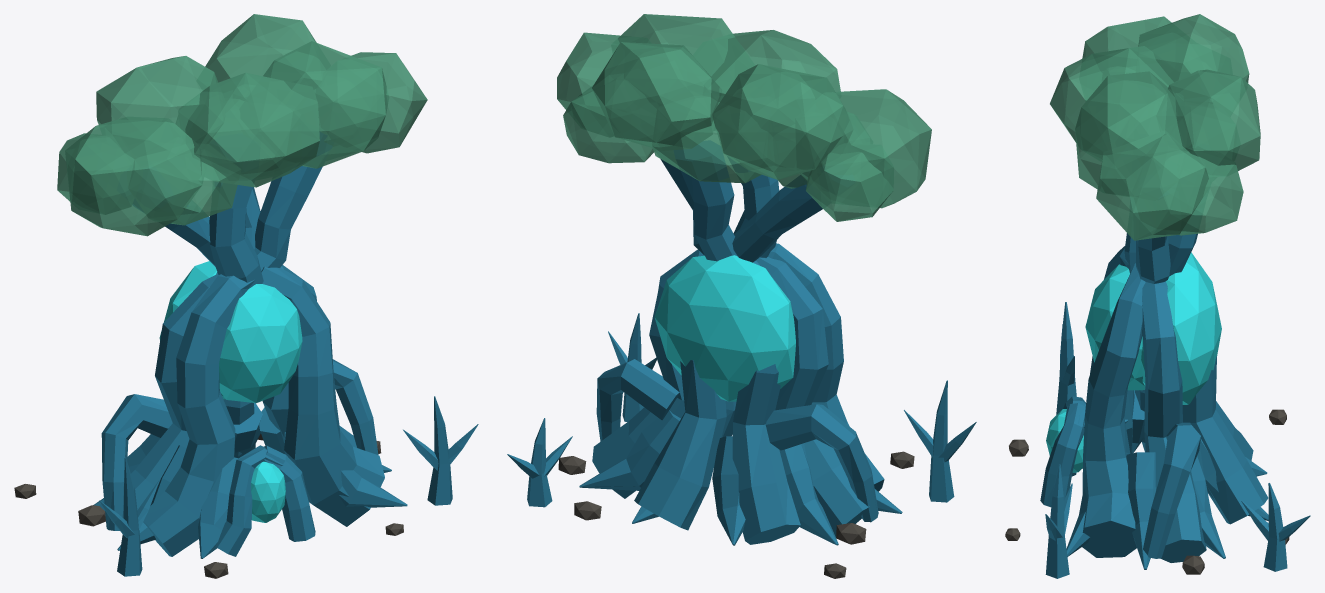
File: Worldroot Heart.fbx
3 renders of one model, left to right at view 1: azimuth 30°, elevation 25°; view 2: azimuth 150°, elevation 25°; view 3: azimuth 270°, elevation 25°, orthographic.
Visible parts, largest first — view 1: Long spreading root 01, Canopy lobe 08, Large rounded cyan heart, Root-base fragment 04; view 2: Long spreading root 01, Canopy lobe 08, Large rounded cyan heart, Root-base fragment 04; view 3: Long spreading root 01, Canopy lobe 08, Large rounded cyan heart, Root-base fragment 04.
Part boxes in pixels (box(x1,y1,x2,y2)): Long spreading root 01: box(93, 132, 478, 576); Canopy lobe 08: box(57, 14, 427, 236); Large rounded cyan heart: box(159, 261, 302, 522); Root-base fragment 04: box(14, 433, 403, 578); Long spreading root 01: box(507, 140, 976, 545); Canopy lobe 08: box(557, 14, 931, 221); Large rounded cyan heart: box(654, 255, 795, 401); Root-base fragment 04: box(558, 451, 914, 578); Long spreading root 01: box(1040, 233, 1310, 578); Canopy lobe 08: box(1050, 14, 1260, 240); Large rounded cyan heart: box(1046, 252, 1221, 472); Root-base fragment 04: box(1005, 409, 1289, 574).
Bounding box in the file's own units: 717 × 861 × 507.
